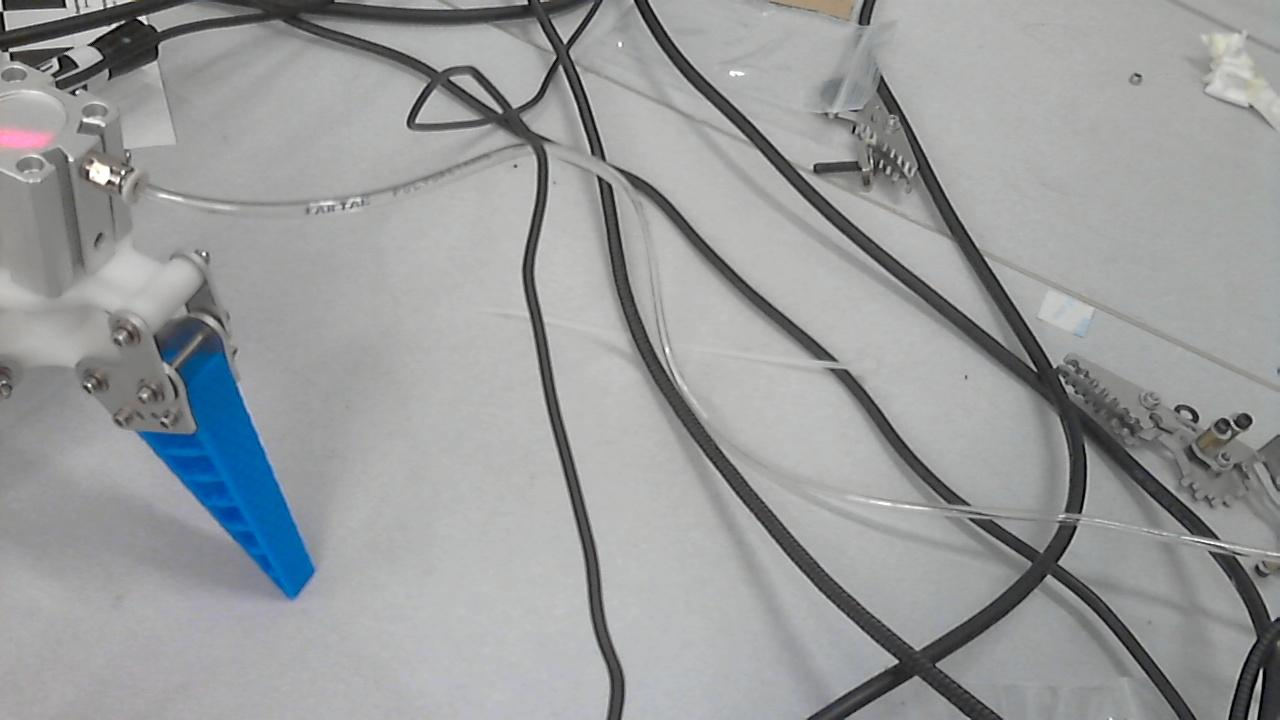Object robotic gripper finger assembly - Material metal - Pdfname Yy6dySnH33wN: (2, 114, 79, 167)
